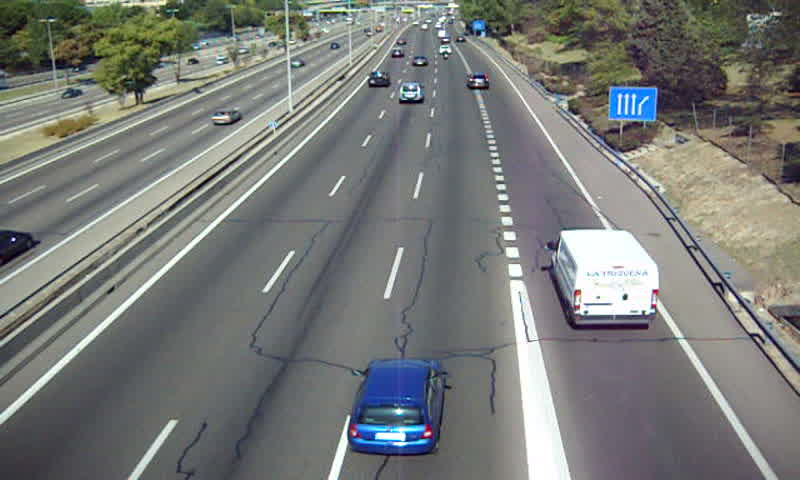car: (346, 358, 444, 455), (397, 84, 425, 105), (366, 70, 390, 90), (466, 74, 492, 92)
van: (543, 230, 660, 325)
